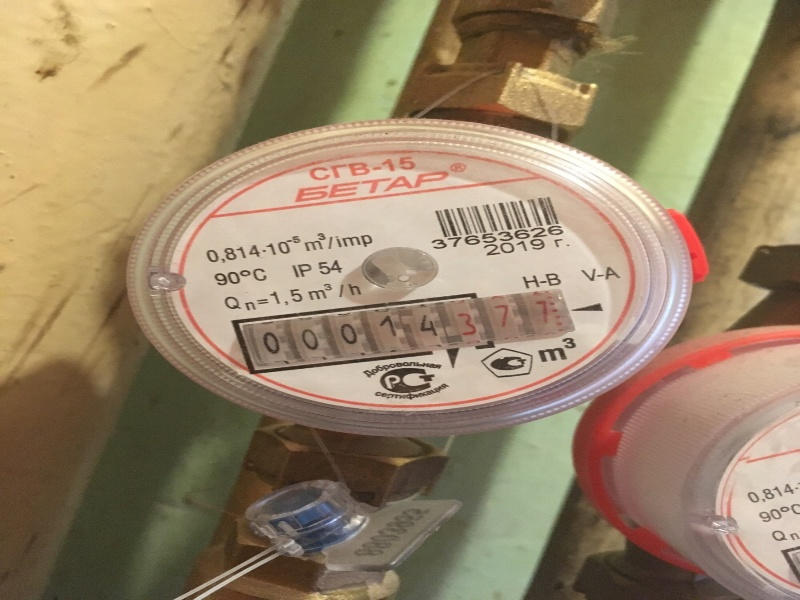dial: (220, 311, 559, 352)
